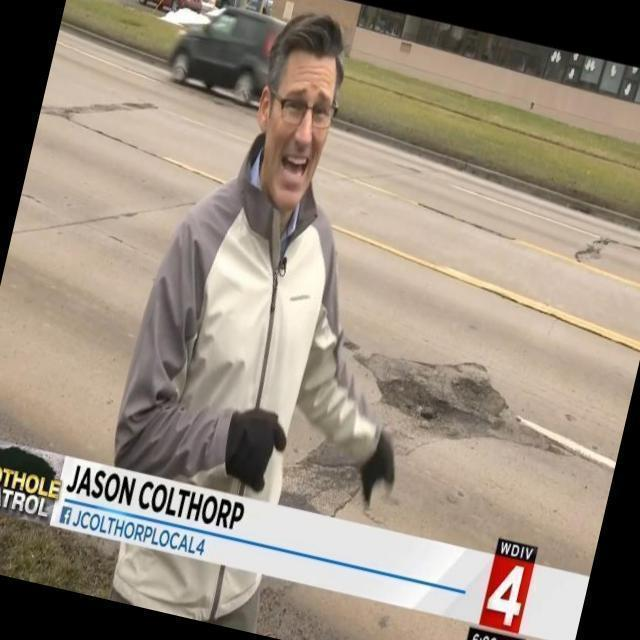Pathole: (368, 352, 550, 450)
